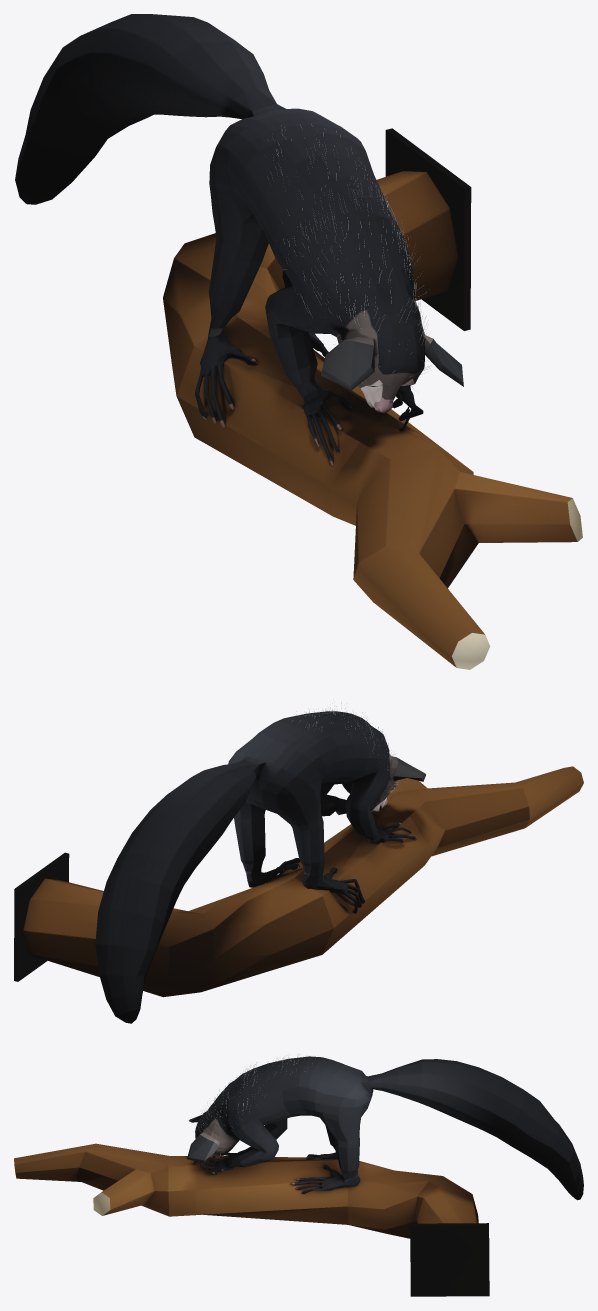
File: aye-aye.glb
3 renders of one model, top to bottom at view 1: azimuth 30°, elevation 25°; view 2: azimuth 150°, elevation 25°; view 3: azimuth 270°, elevation 25°, orthographic. The views are drawn at different scales.
Bounding box in the file's own units: 0.4738 × 0.3705 × 1.11.
Materials: 1 (1 with a texture image).
